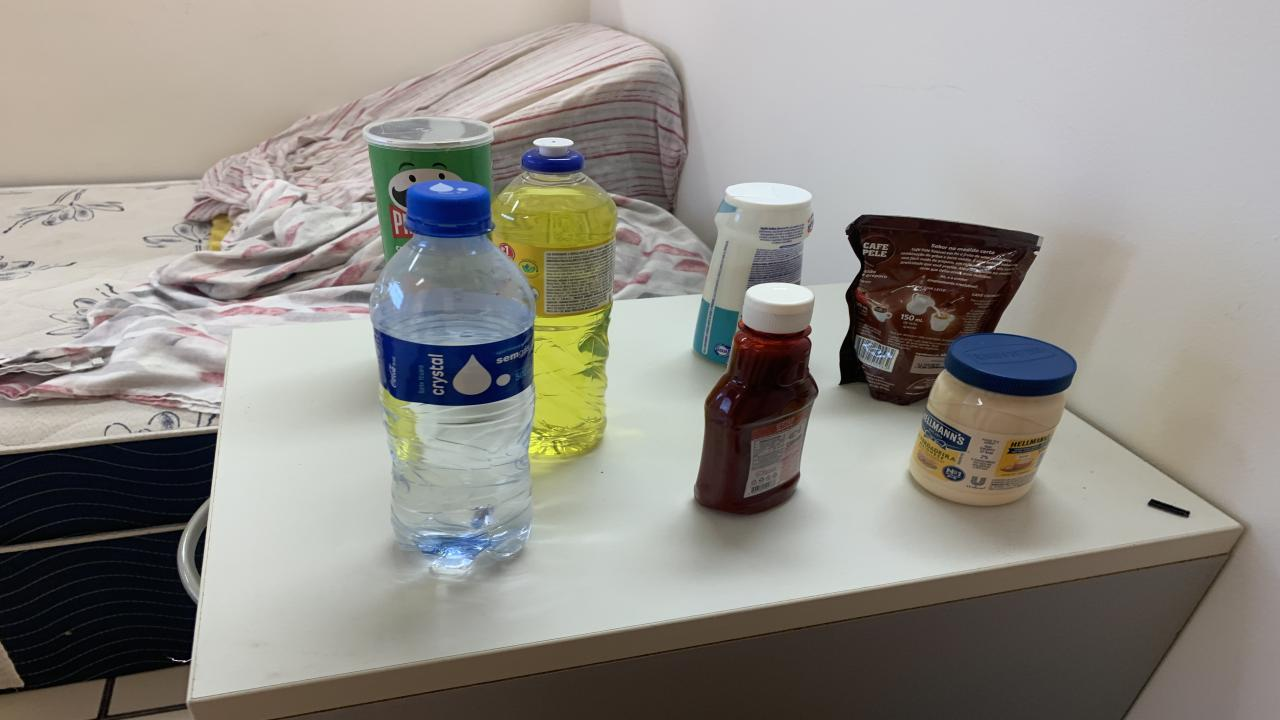Cleaner-Cleanup_Items: (692, 182, 812, 364)
Coffee-Pantry_Items: (840, 216, 1042, 405)
Detergent-Cleanup_Items: (492, 137, 618, 456)
Ketchup-Pantry_Items: (695, 283, 818, 514)
Mayonnaise-Pantry_Items: (910, 334, 1075, 506)
Pringles-Snacks: (362, 116, 495, 261)
Water_Bottle-Drinks: (370, 180, 535, 574)
